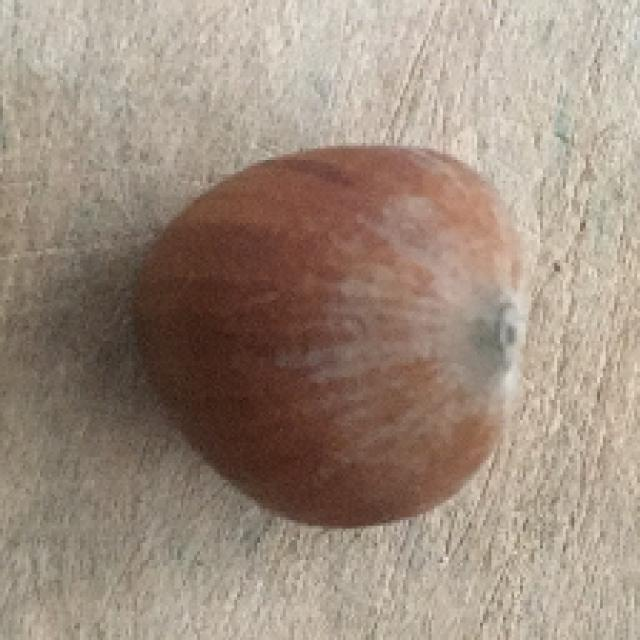qualityHazelnut: (112, 126, 535, 543)
